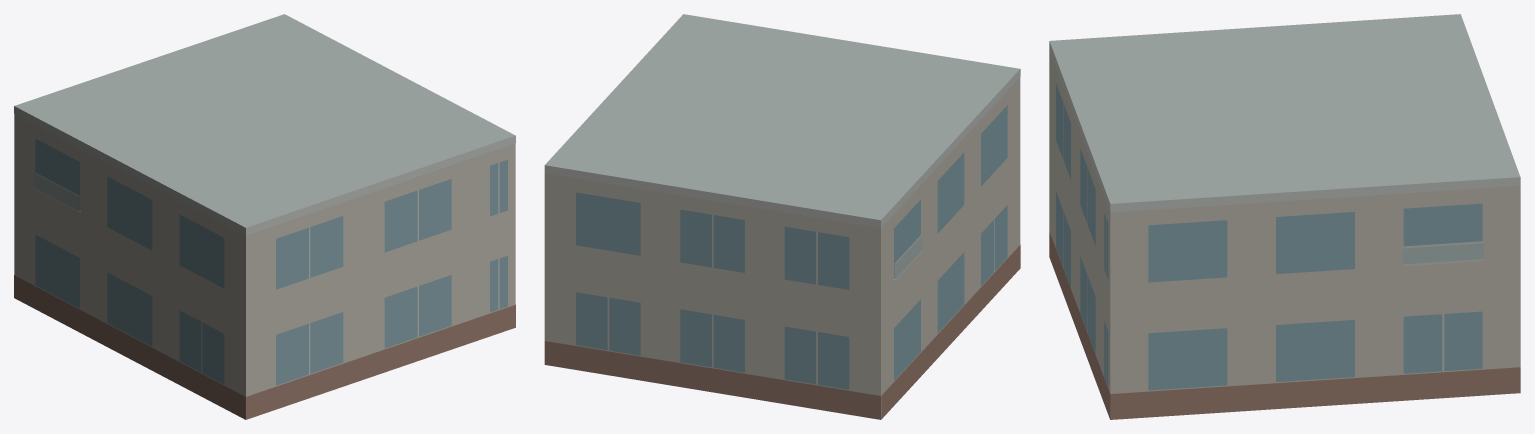
The model's file is survey-upis-32743926.glb.
3 views of the same model, side by side, from view 1: azimuth 30°, elevation 25°; view 2: azimuth 150°, elevation 25°; view 3: azimuth 270°, elevation 25° (orthographic). The views are drawn at different scales.
Parts seen in each view (by area): view 1: survey-upis-32743926.tmp; view 2: survey-upis-32743926.tmp; view 3: survey-upis-32743926.tmp.
Part boxes in pixels (left/top/right/bottom): survey-upis-32743926.tmp: left=14, top=14, right=515, bottom=419; survey-upis-32743926.tmp: left=544, top=14, right=1020, bottom=419; survey-upis-32743926.tmp: left=1049, top=14, right=1520, bottom=419.
Bounding box in the file's own units: 11.51 × 6.1 × 12.07.
